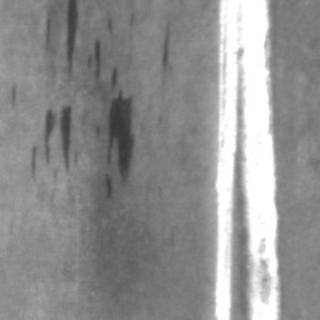inclusion: (98, 78, 134, 184), (28, 101, 70, 173), (59, 0, 91, 76), (152, 26, 172, 78)
scratches: (210, 0, 282, 316)
